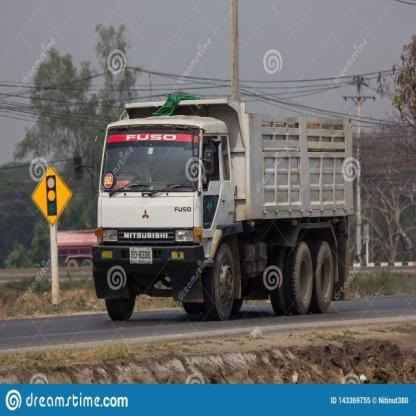truck: (74, 90, 356, 320)
